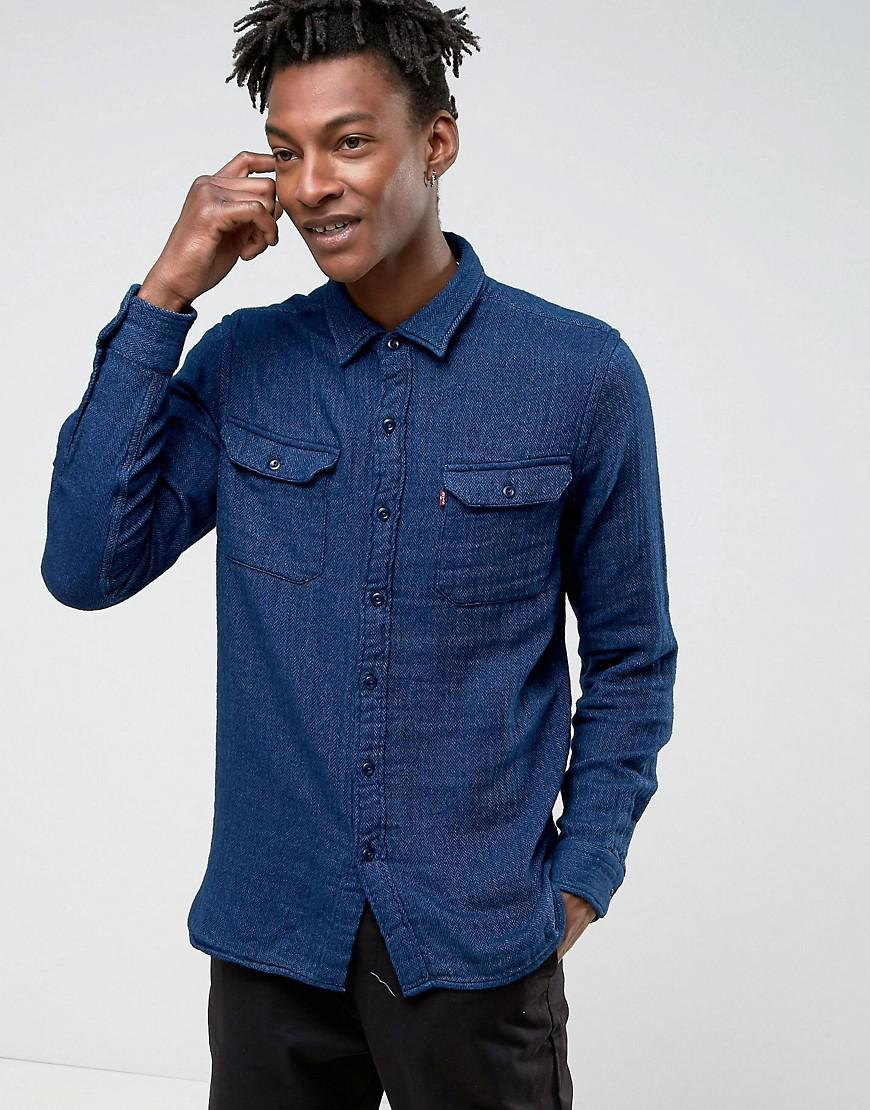teeshirt: (66, 290, 696, 957)
